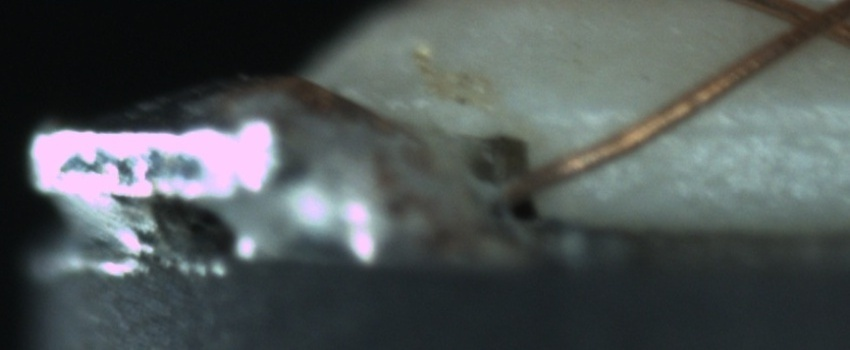CL: (775, 1, 848, 47)
DL: (613, 91, 848, 160)
